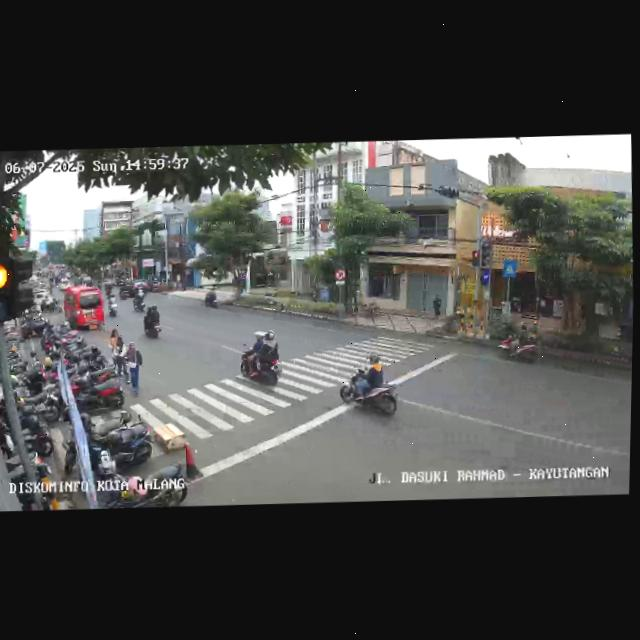car: (62, 286, 106, 331)
motorcycle: (336, 353, 402, 423), (237, 328, 283, 388), (495, 319, 540, 365), (140, 302, 165, 340), (204, 286, 219, 311), (106, 292, 120, 316), (132, 286, 145, 309)
person: (123, 339, 146, 393), (108, 328, 125, 372)
